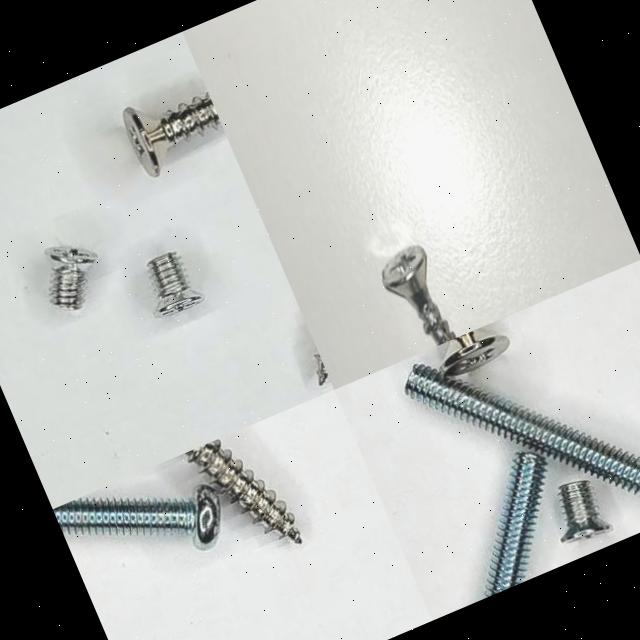Screw: (405, 364, 640, 493), (185, 439, 303, 542), (52, 485, 221, 548), (484, 452, 544, 598), (124, 92, 220, 175), (382, 244, 456, 346), (149, 251, 204, 316), (46, 244, 97, 310), (442, 329, 509, 375), (560, 480, 598, 525)
